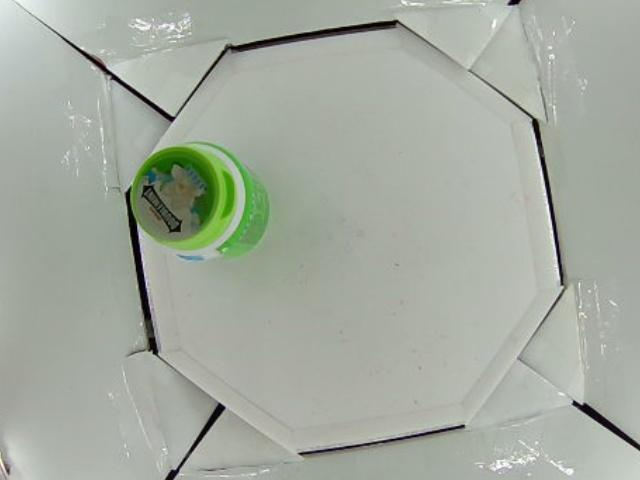Bottle: (131, 139, 274, 264)
